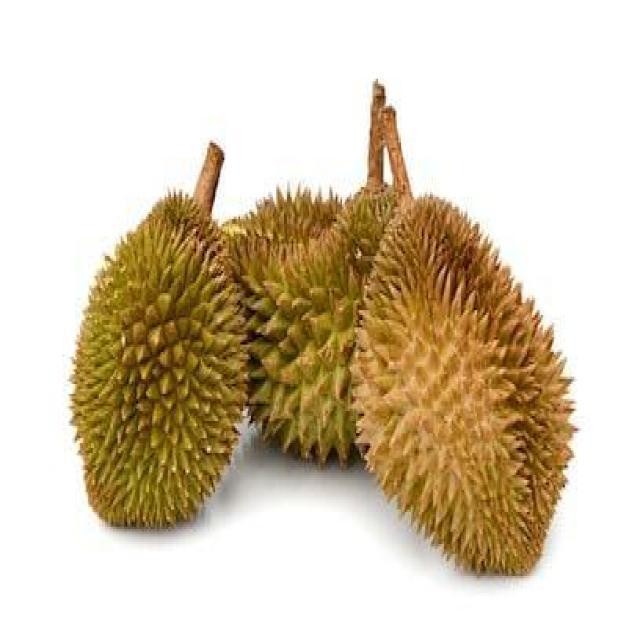mature: (354, 198, 574, 574)
